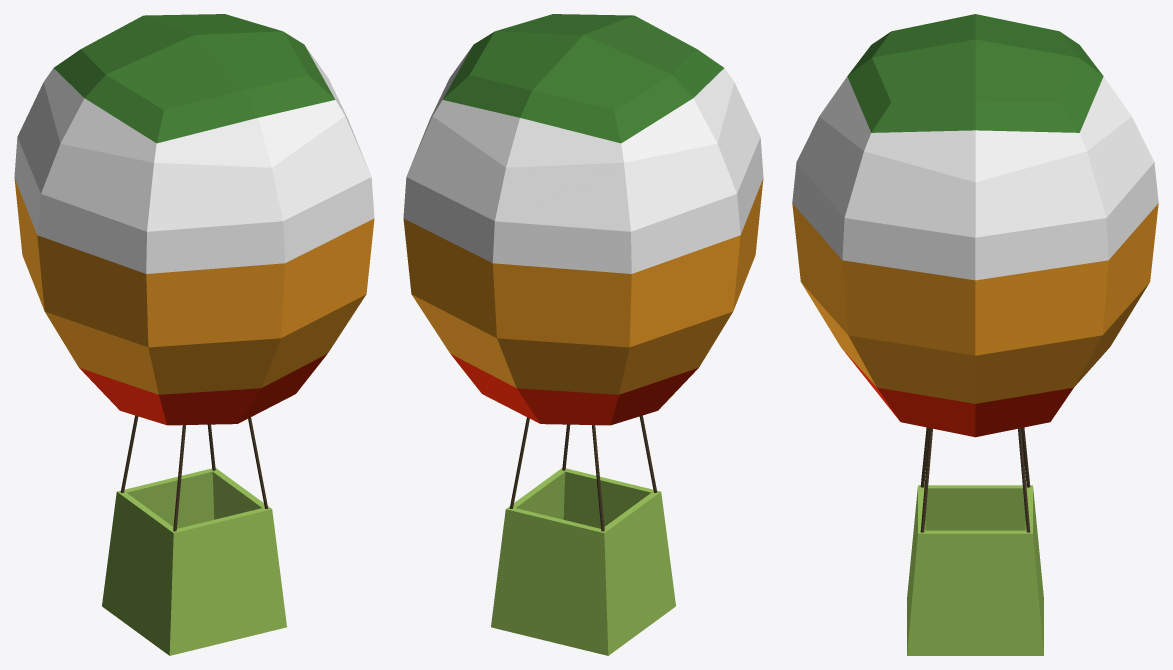
The model's file is Flying balloon_2.fbx.
3 renders of one model, left to right at view 1: azimuth 30°, elevation 25°; view 2: azimuth 150°, elevation 25°; view 3: azimuth 270°, elevation 25°, orthographic.
Visible parts, largest first — view 1: Flying balloon_2; view 2: Flying balloon_2; view 3: Flying balloon_2.
Boxes of the visible parts, x1,y1,x2,y2 form: Flying balloon_2: (14,14,374,655); Flying balloon_2: (403,14,763,655); Flying balloon_2: (792,14,1158,655).
Size of the model in its own units: 565 by 999 by 565.
